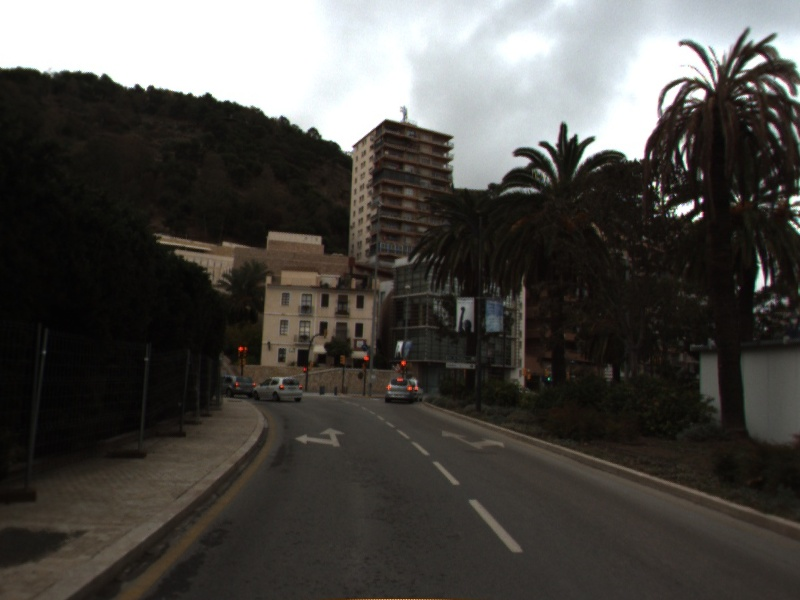STRAIGHT_LEFT: (293, 426, 347, 449)
STRAIGHT_RIGHT: (440, 428, 506, 451)
